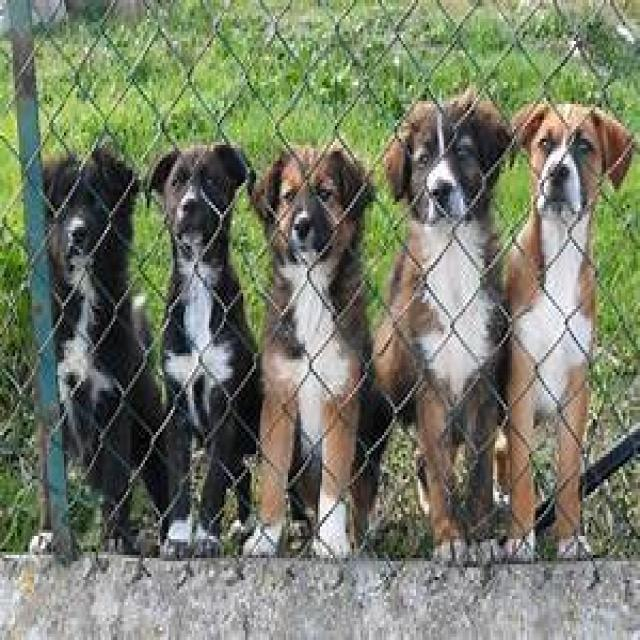dog: (352, 88, 518, 549), (508, 101, 636, 558), (250, 142, 390, 558), (45, 145, 164, 501), (149, 145, 258, 527)
